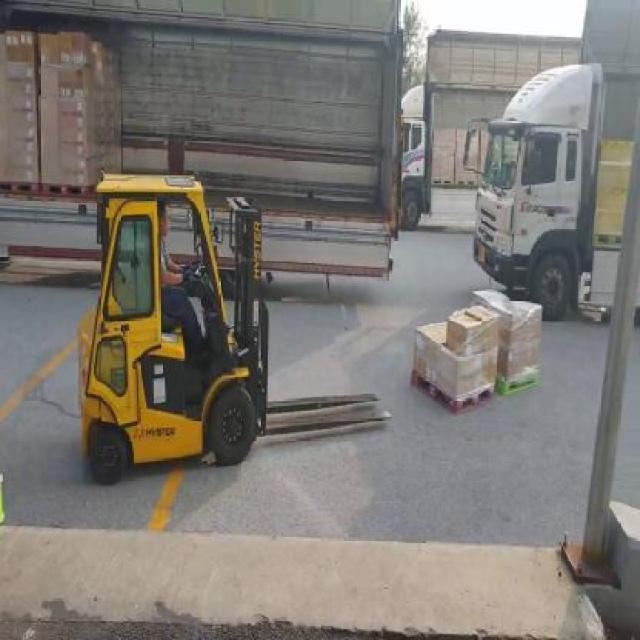forklift: (77, 177, 263, 482)
